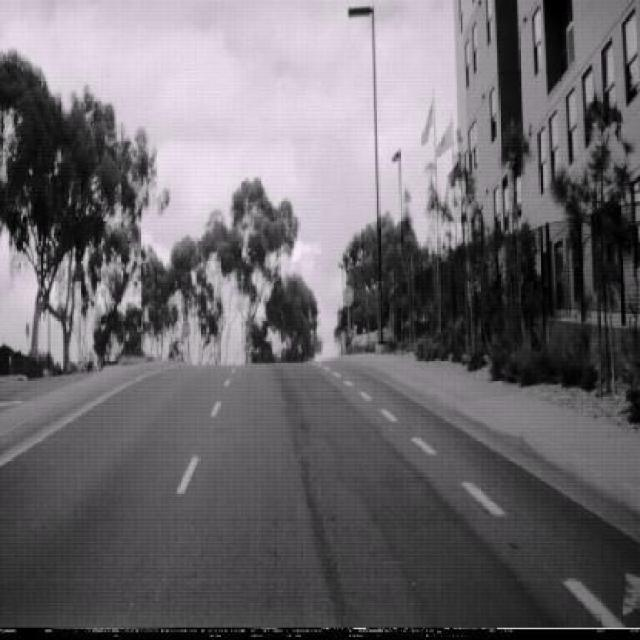stop: (343, 285, 354, 307), (182, 320, 190, 338)
